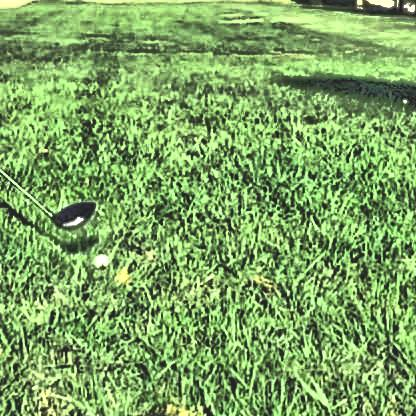golfball: (90, 251, 107, 266)
